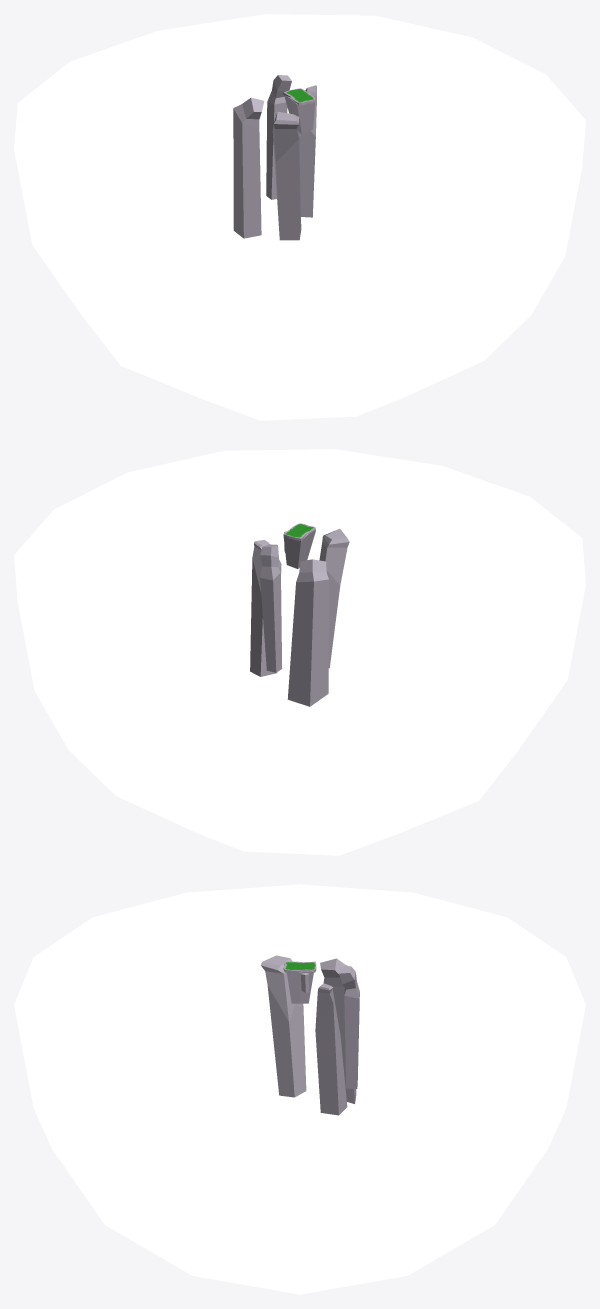
File: Map04.glb
3 views of the same model, one above another, from view 1: azimuth 30°, elevation 25°; view 2: azimuth 150°, elevation 25°; view 3: azimuth 270°, elevation 25° (orthographic).
Visible parts, largest first — view 1: Skybox, Cube.002, Cube.004, Cube.005, Cube.003, Cube.001; view 2: Skybox, Cube.002, Cube.003, Cube.005, Cube.004, Cube.001; view 3: Skybox, Cube.004, Cube.005, Cube.003, Cube.002, Cube.001.
Boxes of the visible parts, <box> form: Skybox: <box>14,14,585,420</box>; Cube.002: <box>233,97,264,238</box>; Cube.004: <box>272,112,301,240</box>; Cube.005: <box>297,85,316,217</box>; Cube.003: <box>266,75,291,199</box>; Cube.001: <box>284,95,315,133</box>; Skybox: <box>14,449,585,855</box>; Cube.002: <box>287,559,328,706</box>; Cube.003: <box>260,544,282,672</box>; Cube.005: <box>250,539,281,676</box>; Cube.004: <box>319,529,349,668</box>; Cube.001: <box>283,529,315,568</box>; Skybox: <box>14,884,585,1294</box>; Cube.004: <box>261,955,306,1097</box>; Cube.005: <box>315,983,347,1115</box>; Cube.003: <box>339,966,359,1088</box>; Cube.002: <box>320,958,356,1103</box>; Cube.001: <box>286,971,313,1003</box>.
Bounding box in the file's own units: 410 × 237 × 410.
3 materials, 2 textured.
